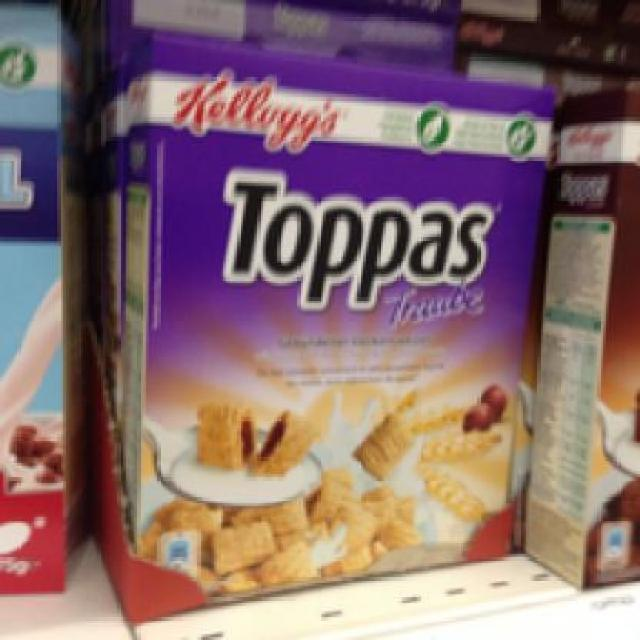Cereal: (112, 28, 558, 618)
